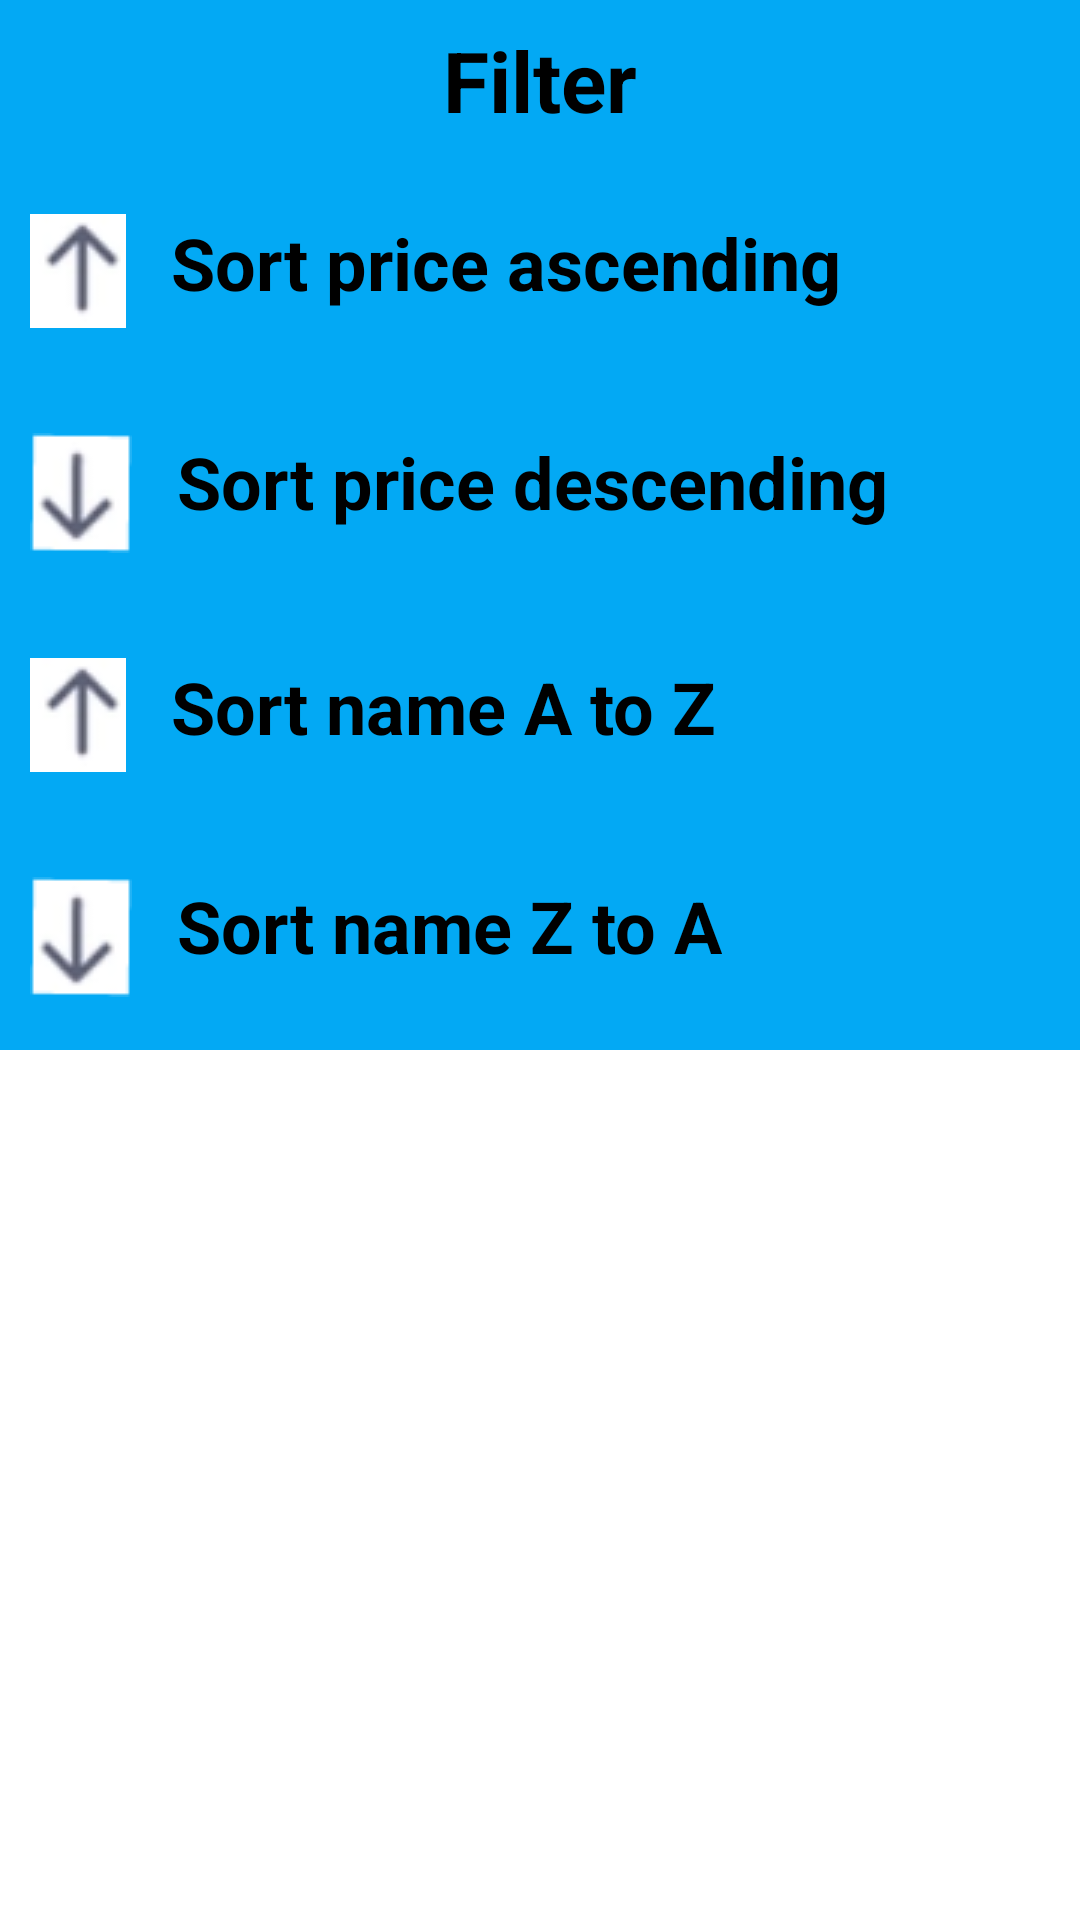

Icons on this 1080 x 1920 Android screen, each with its box as (x1,y1,x2,y2):
arrowdown: (30,433,132,553), (30,877,132,997)
arrowup: (30,214,126,328), (30,658,126,772)
